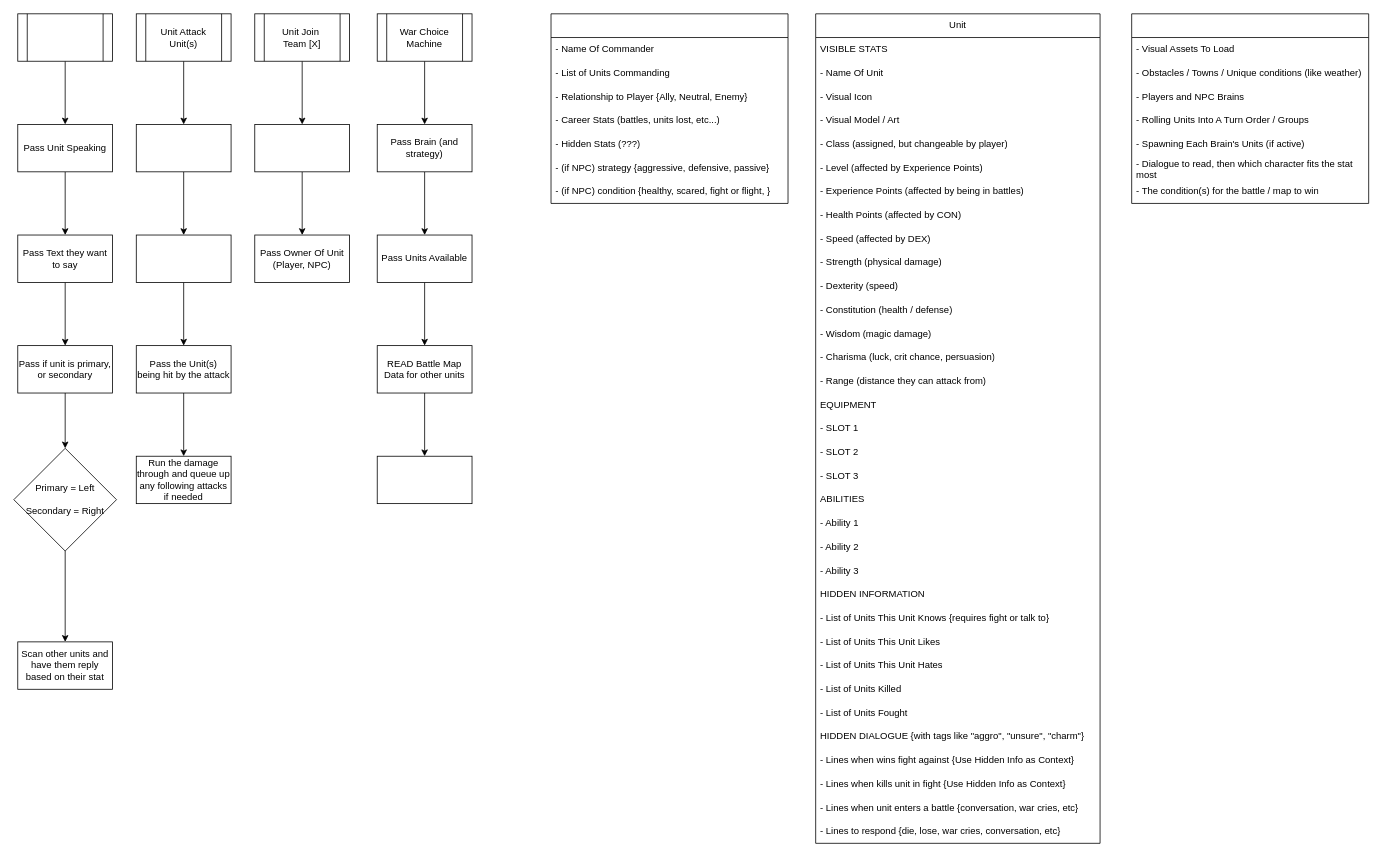
The diagram is 1383 pixels wide and 857 high, and some of its shapes have lost their labels. Here are the shapes that lost their labels. From the top down, the box of each, then its label:
(17, 13, 113, 61): Pop Up Dialogue
(550, 13, 788, 203): Brain - (Player, NPC)
(1131, 13, 1369, 203): Battle & Map Manager
(135, 124, 231, 172): Pass Unit Attack (and their stats)
(254, 124, 350, 172): Pass Unit Converting
(135, 234, 231, 282): Pass The Type of Attack Selected
(376, 455, 472, 504): Decision Logic for what to do based Condition and Strategy
